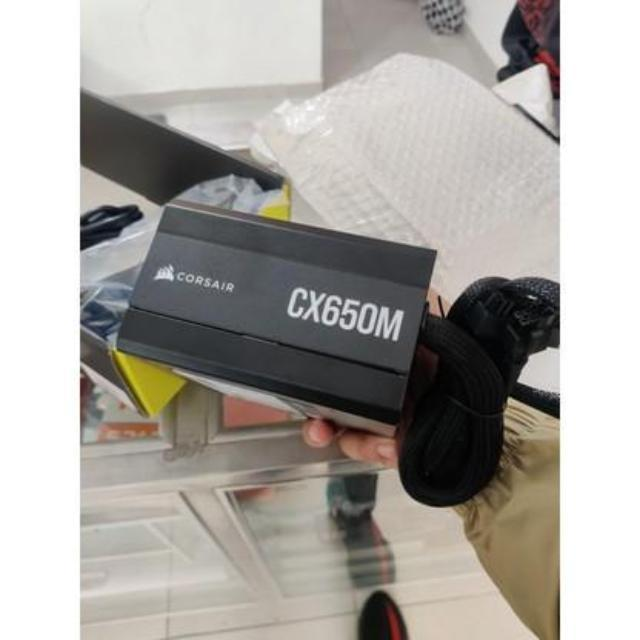PSU: (110, 196, 450, 424)
